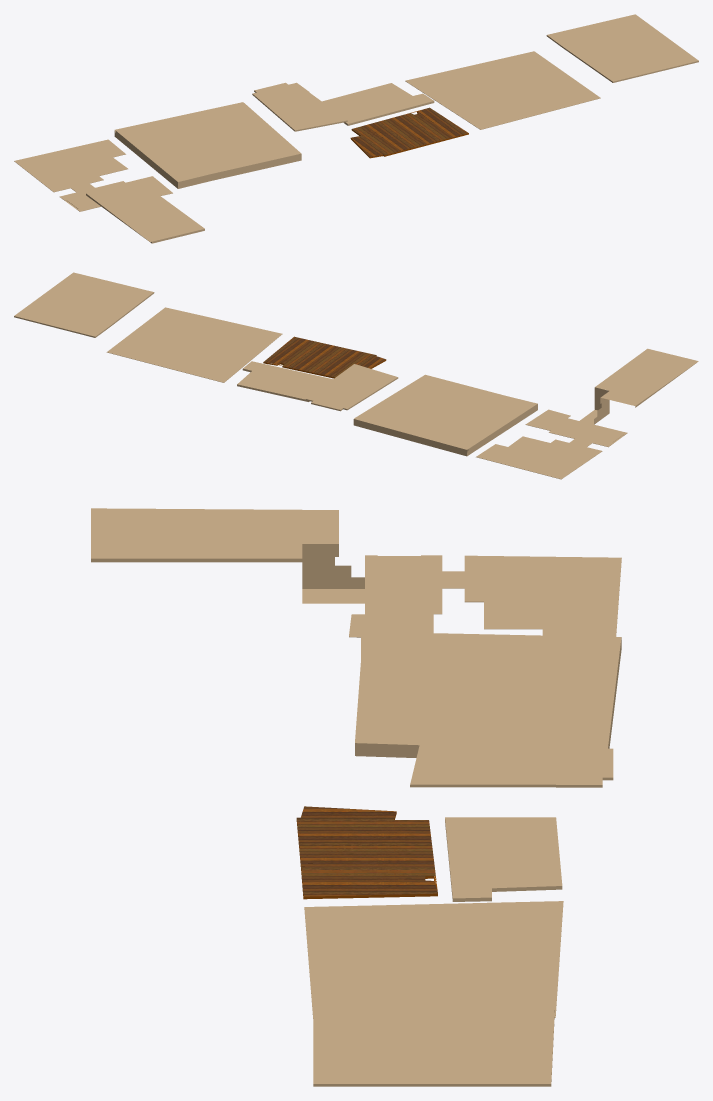
The model's file is podlahy_prizemi.dae.
3 renders of one model, top to bottom at view 1: azimuth 30°, elevation 25°; view 2: azimuth 150°, elevation 25°; view 3: azimuth 270°, elevation 25°, orthographic. The views are drawn at different scales.
Visible parts, largest first — view 1: group_4, group_8, group_2, group_6, group_10, group_3, group_0, group_7, group_5; view 2: group_4, group_8, group_2, group_6, group_10, group_3, group_0, group_7, group_5, SketchUp, schody; view 3: group_4, group_8, group_2, group_10 (×2), group_6, group_3, group_0, group_7, group_5, schody.
Boxes of the visible parts, bbox=[...] form: group_4: bbox=[115, 102, 301, 188]; group_8: bbox=[405, 51, 600, 129]; group_2: bbox=[546, 14, 698, 82]; group_6: bbox=[14, 139, 127, 192]; group_10: bbox=[86, 184, 204, 241]; group_3: bbox=[351, 107, 468, 156]; group_0: bbox=[252, 82, 347, 131]; group_7: bbox=[322, 83, 433, 123]; group_5: bbox=[59, 176, 172, 211]; group_4: bbox=[354, 374, 537, 454]; group_8: bbox=[106, 307, 282, 382]; group_2: bbox=[14, 272, 154, 337]; group_6: bbox=[476, 436, 602, 479]; group_10: bbox=[595, 348, 698, 405]; group_3: bbox=[264, 336, 385, 377]; group_0: bbox=[305, 364, 398, 411]; group_7: bbox=[237, 361, 332, 399]; group_5: bbox=[525, 409, 627, 447]; SketchUp: bbox=[353, 419, 468, 456]; schody: bbox=[580, 387, 609, 424]; group_4: bbox=[355, 631, 621, 757]; group_8: bbox=[304, 901, 563, 1018]; group_2: bbox=[313, 1003, 554, 1086]; group_10 (×2): bbox=[91, 508, 338, 562]; group_6: bbox=[464, 555, 621, 636]; group_3: bbox=[296, 806, 437, 896]; group_0: bbox=[410, 739, 613, 787]; group_7: bbox=[445, 817, 562, 898]; group_5: bbox=[349, 555, 442, 637]; schody: bbox=[302, 547, 364, 603].
Size of the model in its own units: 900 by 363 by 35.83.
Materials: 4 (1 with a texture image).
